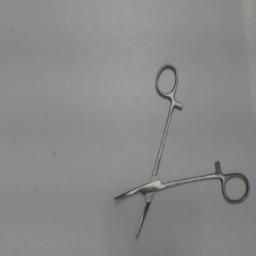Crile Artery Forceps: (109, 58, 253, 244)
